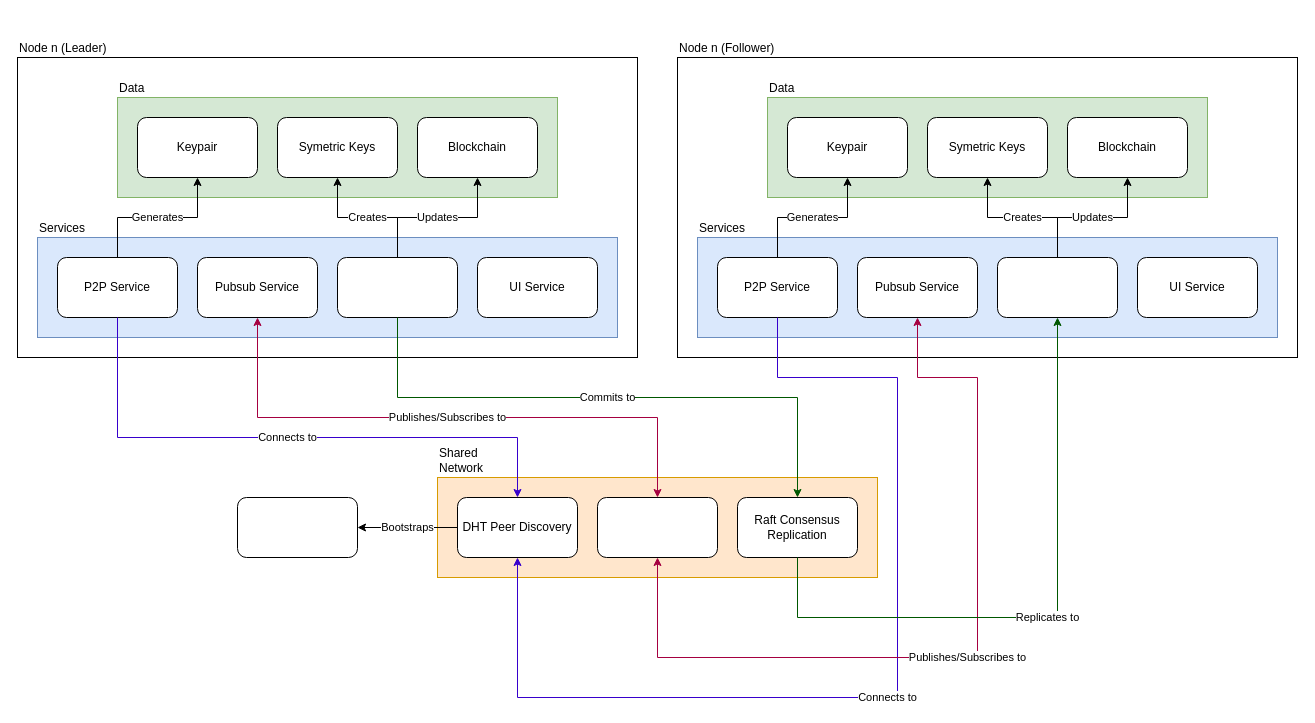
Some shapes in this 1315 by 723 pixel diagram are drawn without their labels. Here are the shapes that lost their labels. From the top down, the centre of each, then its label:
At (397,287): "Consensus Service (Leader)".
At (1057,287): "Consensus Service (Follower)".
At (297,527): "IPFS Bootstrap Nodes".
At (657,527): "Pubsub Topic".
